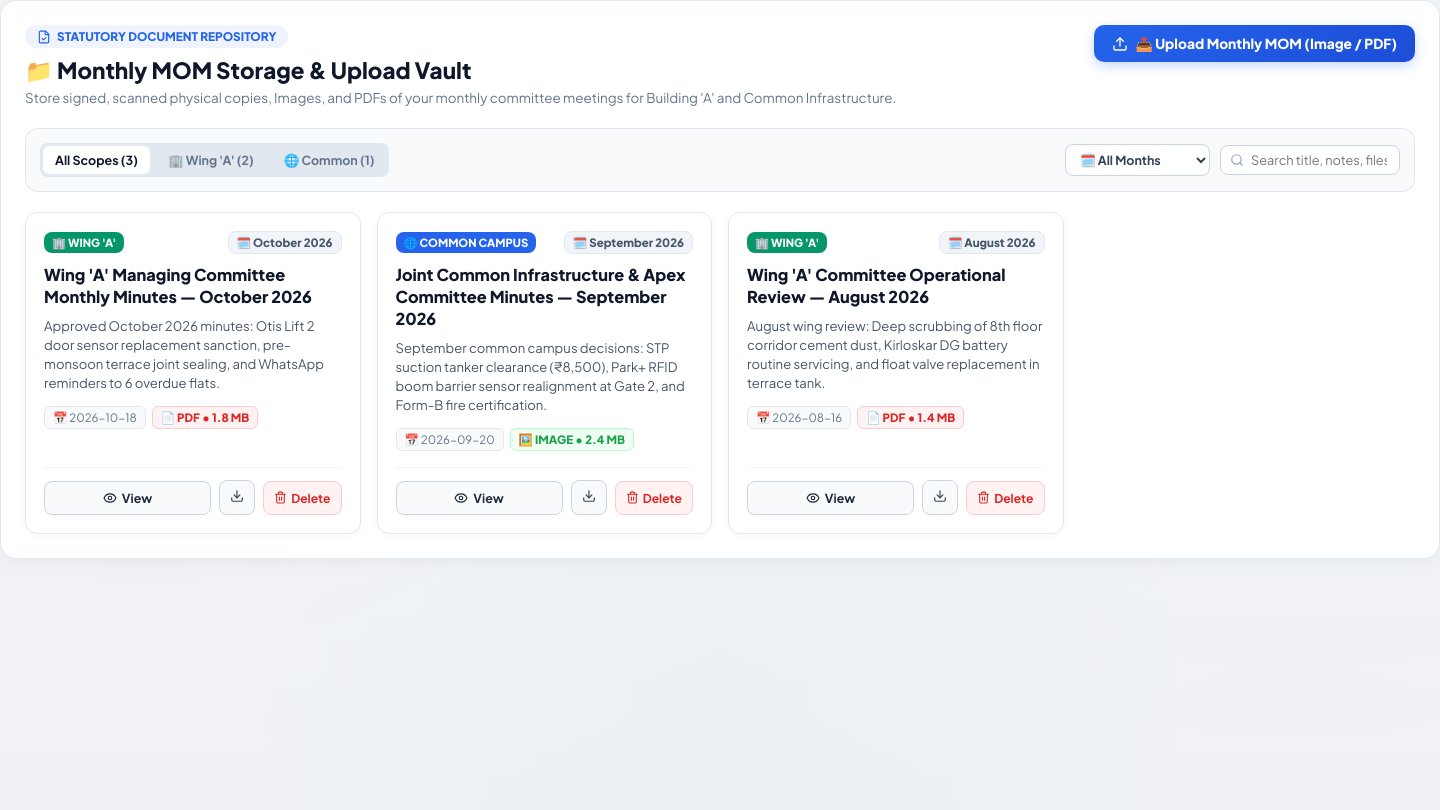
Test case: MonthlyMomStorageVault Component › opens and closes the upload modal for image or PDF
The width and height of the screenshot is (1440, 810).
Click the button with test id "open-upload-modal-btn": x=1254, y=44 [1094,25,1415,62]
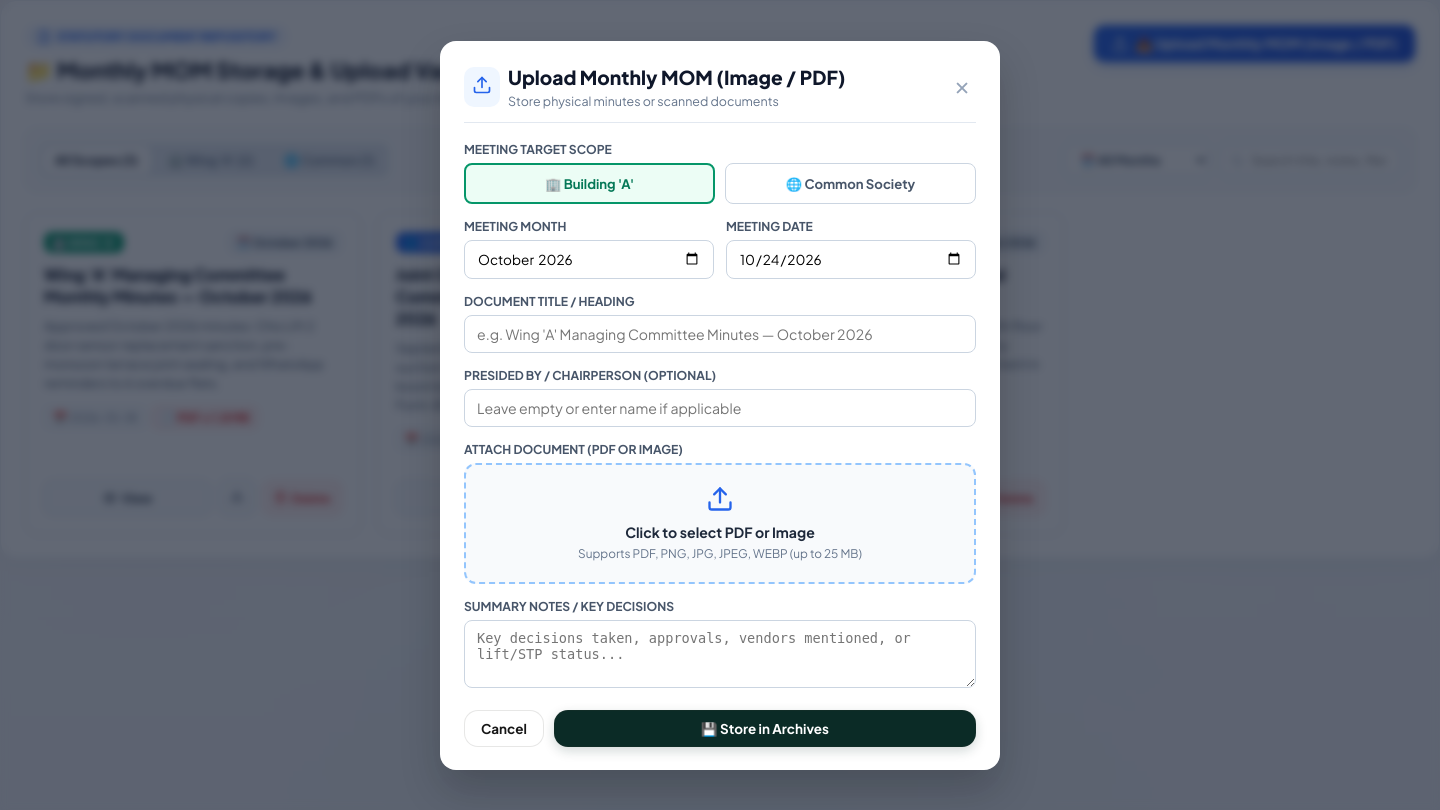
Expected: the element with test id "upload-mom-modal" is shown
Expected: the heading "Upload Monthly MOM (Image / PDF)" is shown, [508,64,846,88]
# Cancel closes modal
Click the button "Cancel": x=504, y=728 [464,710,544,746]
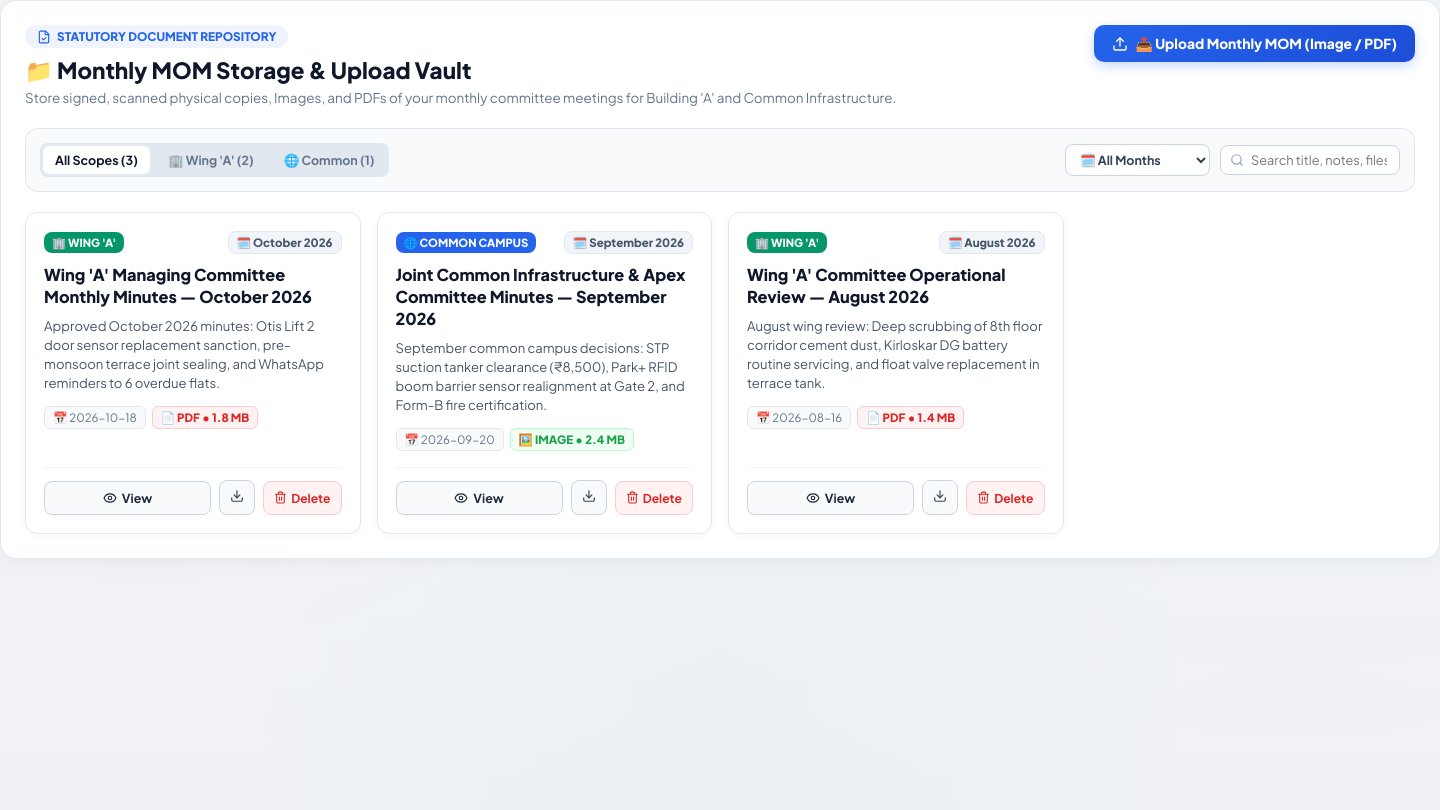
Expected: the element with test id "upload-mom-modal" is gone
